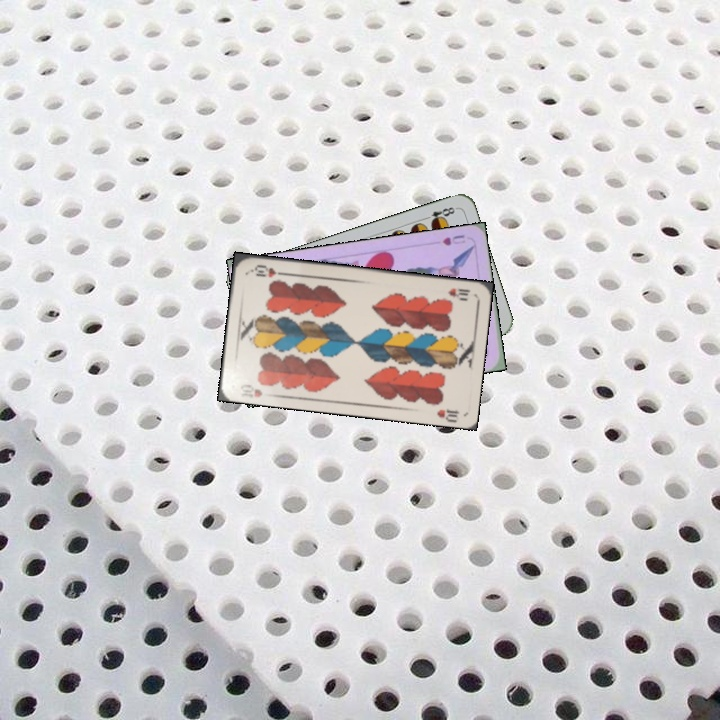E8: (420, 203, 459, 226)
H10: (236, 380, 265, 400), (444, 284, 473, 303)
HU: (439, 231, 468, 248)
